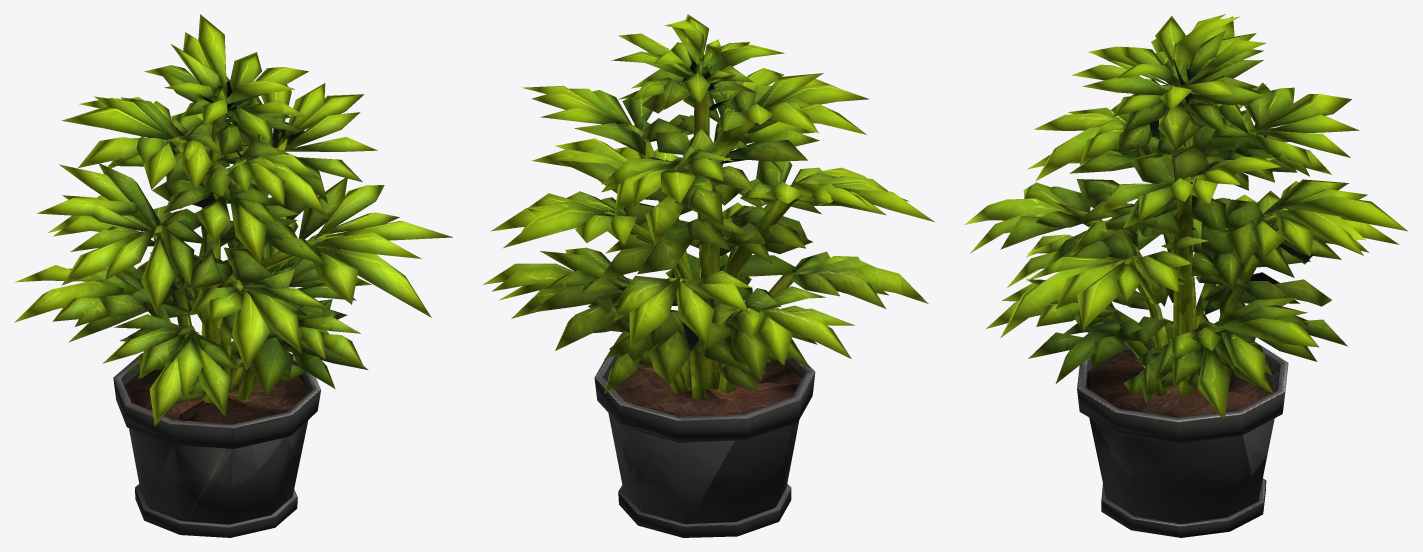
Rendered from vegetative.glb.
3 renders of one model, left to right at view 1: azimuth 30°, elevation 25°; view 2: azimuth 150°, elevation 25°; view 3: azimuth 270°, elevation 25°, orthographic. The views are drawn at different scales.
Size of the model in its own units: 0.8418 by 1 by 0.8203.
1 material, 1 textured.
